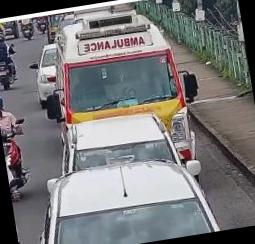ambulance: (28, 0, 211, 202)
